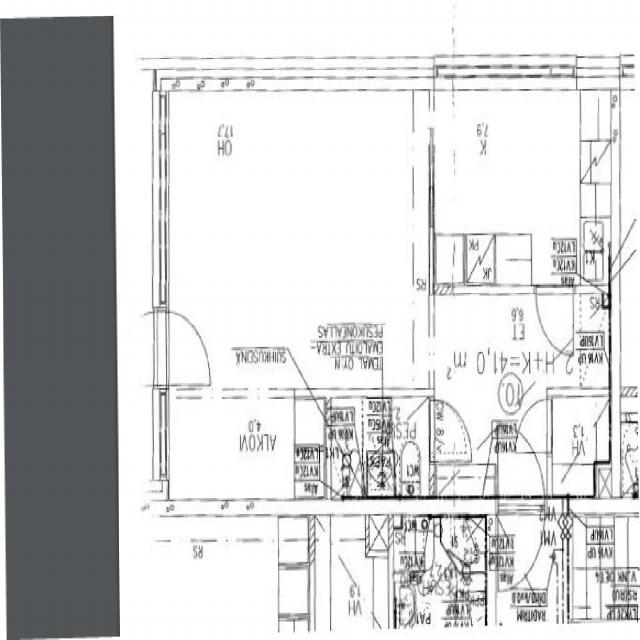door: (152, 312, 213, 386), (107, 312, 168, 386), (498, 421, 545, 515), (498, 499, 545, 592), (429, 401, 471, 461), (536, 285, 572, 355), (514, 400, 552, 452)
